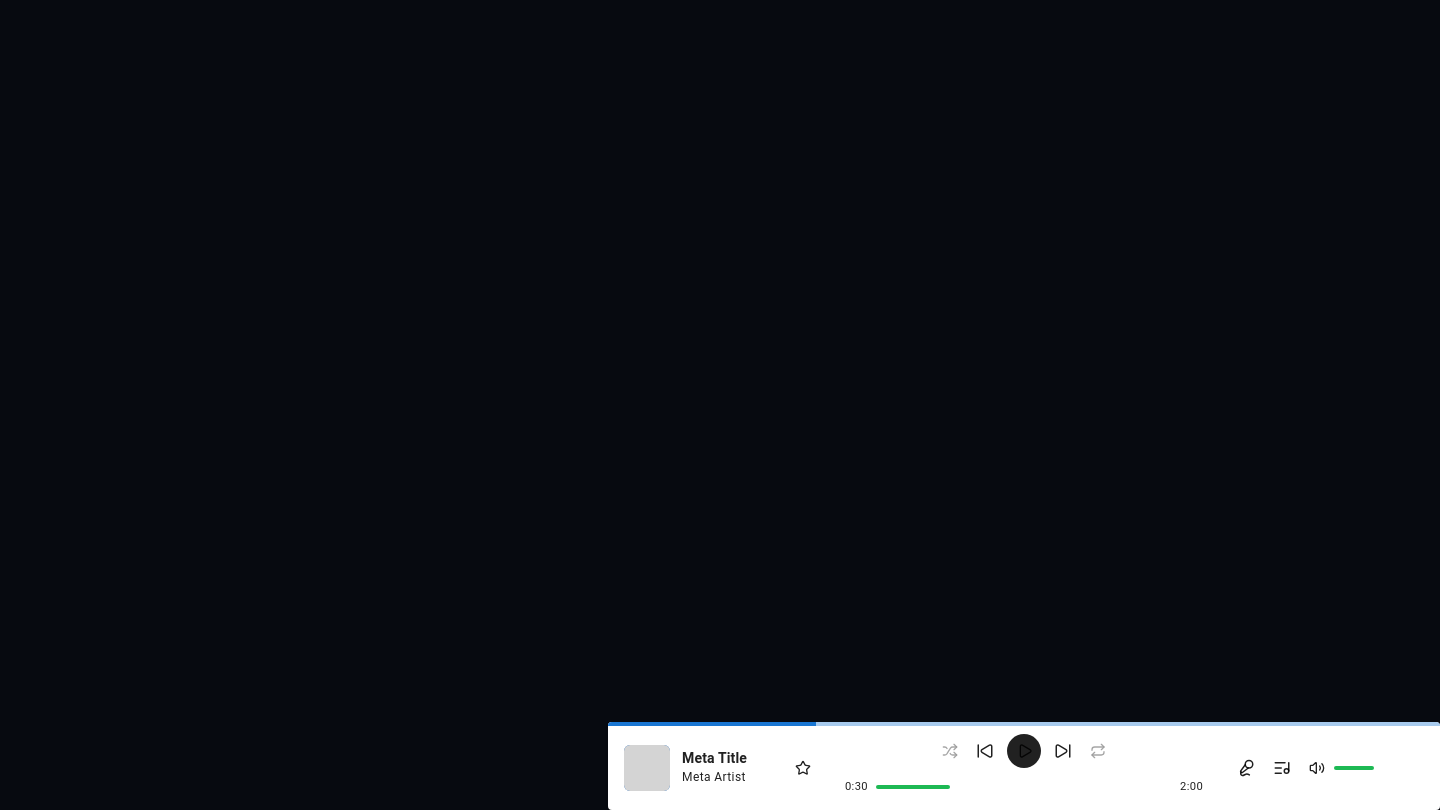
Scenario: GlobalPlayerControl (compact mobile mode) › opens the expanded sheet when tapping the mini-player and closes it
Click the text "Meta Title". click: (714, 758)
box: [682, 750, 747, 766]
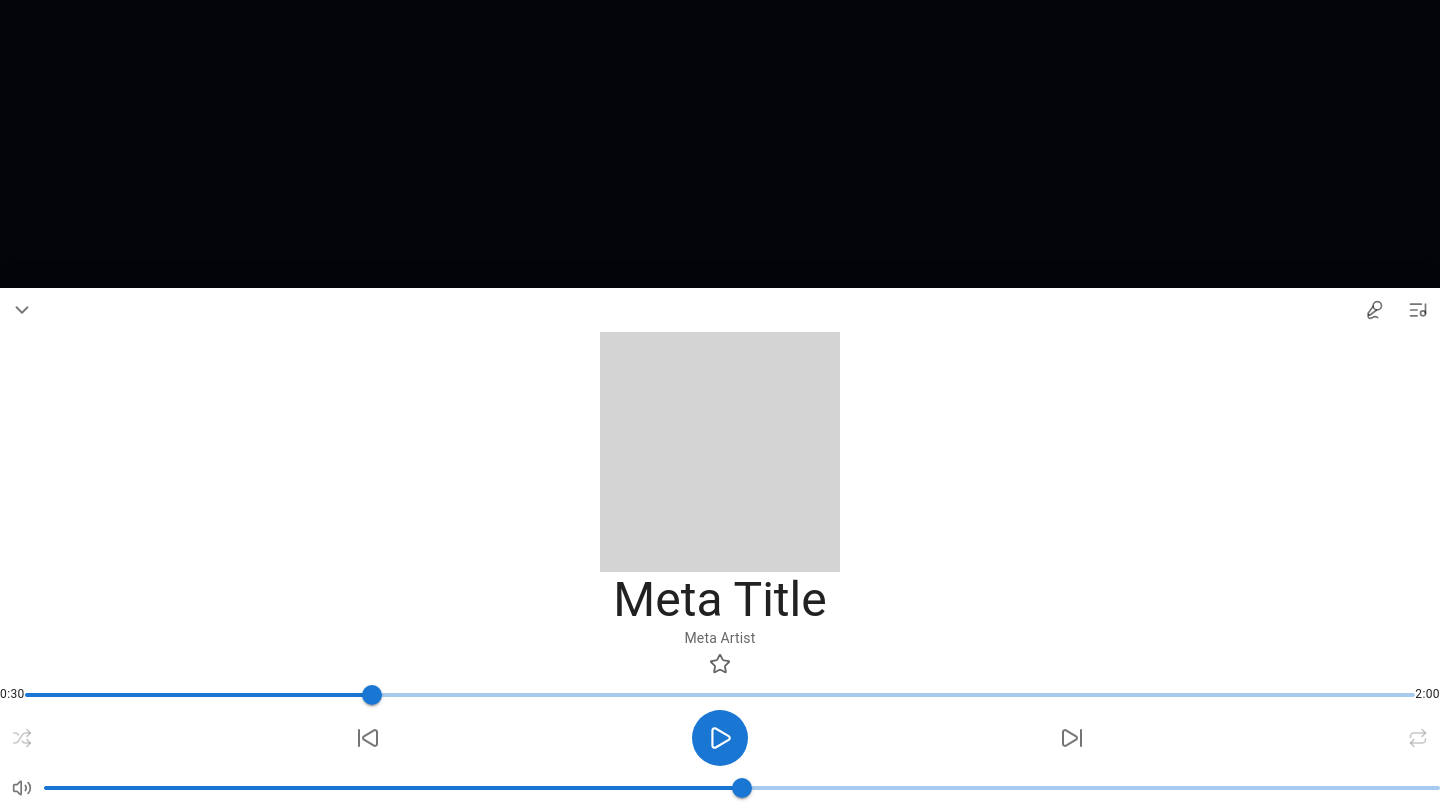
Click the button named "PLAYER_ARIA_CLOSE_EXPANDED". click: (22, 310)
box: [0, 288, 44, 332]
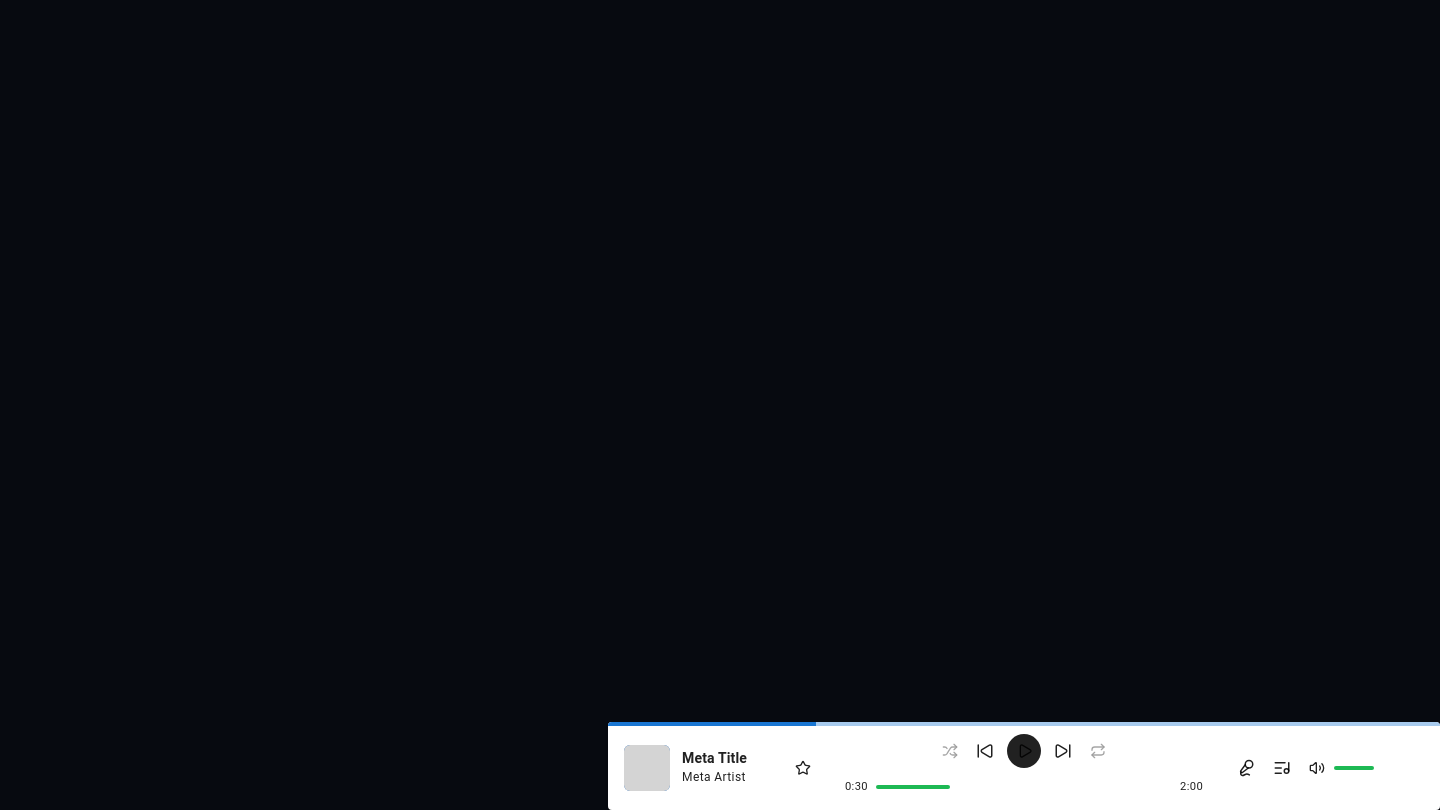
Check: the button "PLAYER_ARIA_CLOSE_EXPANDED" is gone
